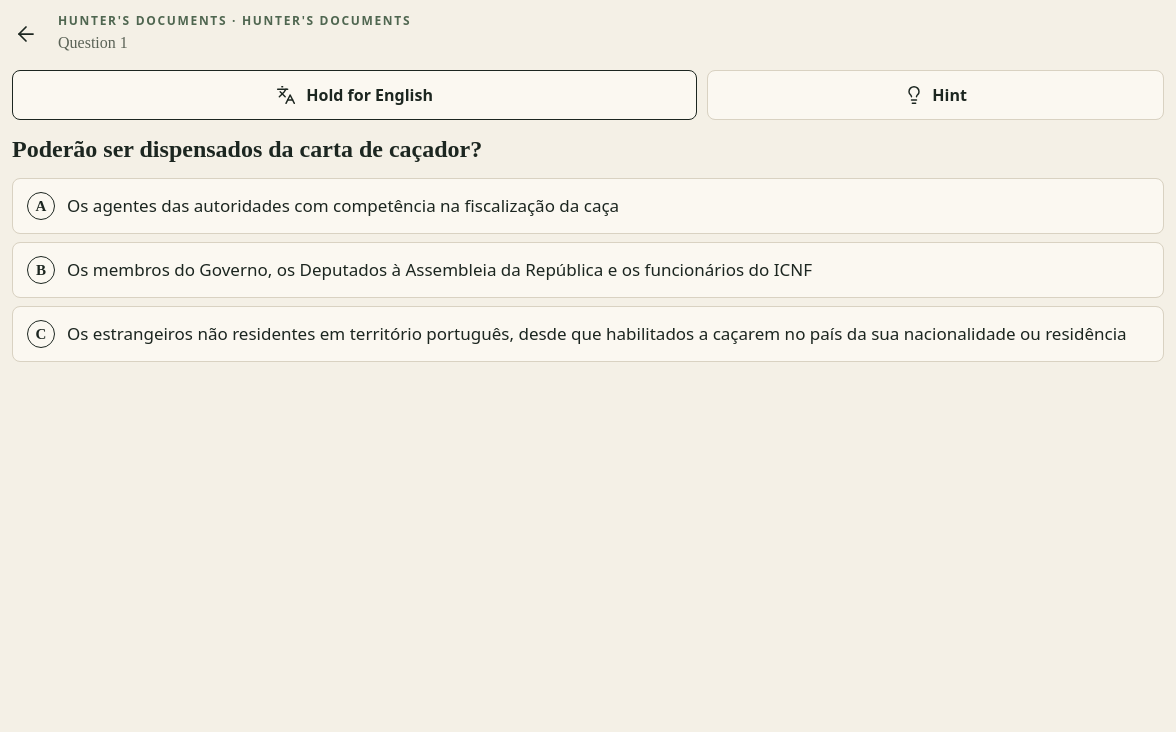
Test: the flags row (D2) › a failed Save says so and keeps the field open with the typed note (cac-eil.41)
Click the 3rd button.
click(588, 206)  # box x1=12 y1=178 x2=1164 y2=234
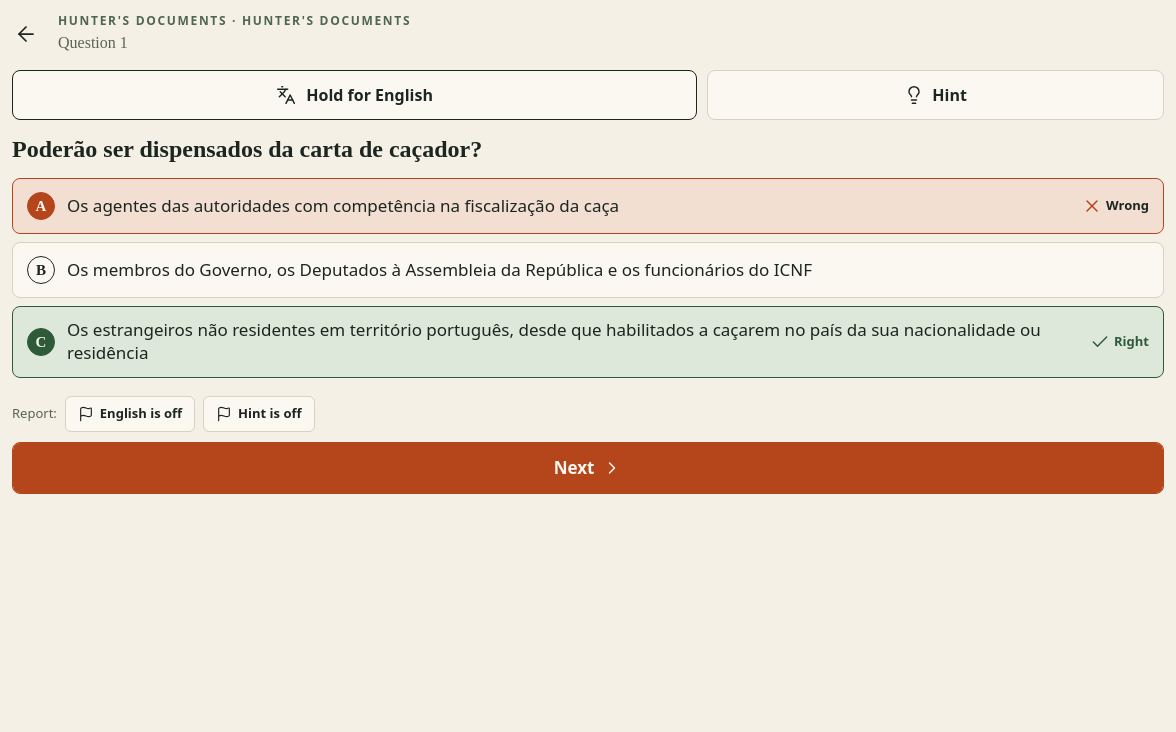
expect the button "English is off" is enabled: met
Click the button "English is off".
click(130, 414)  # box x1=65 y1=396 x2=195 y2=432
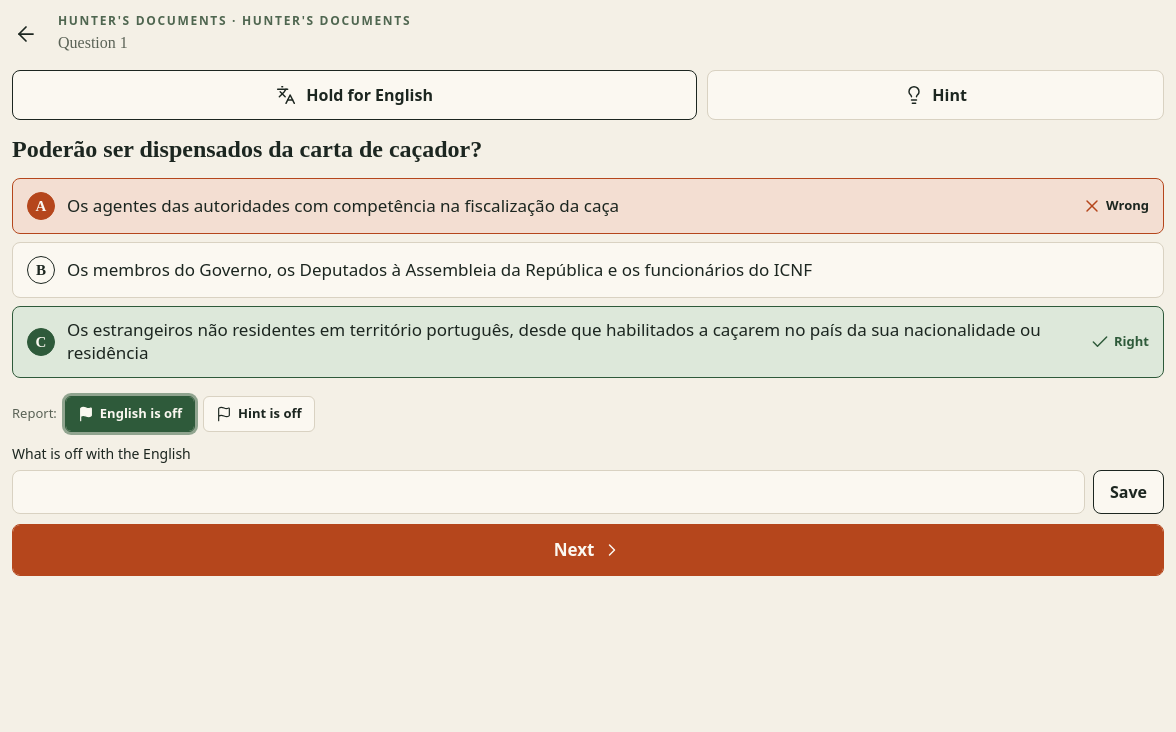
Type "option B" into the field labelled "What is off with the English".
click(548, 492); type("option B")  # box x1=12 y1=470 x2=1085 y2=514
Then press Enter
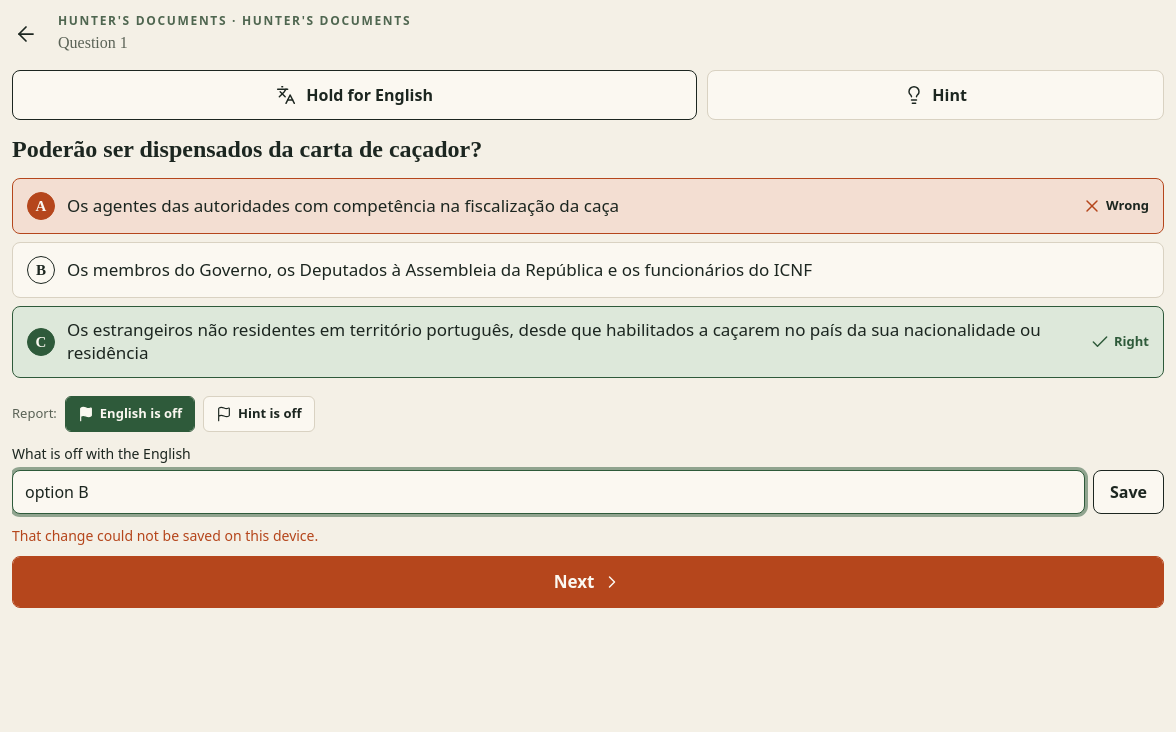
expect the text "That change could not be saved on this device." is shown: met, box x1=12 y1=526 x2=318 y2=545
